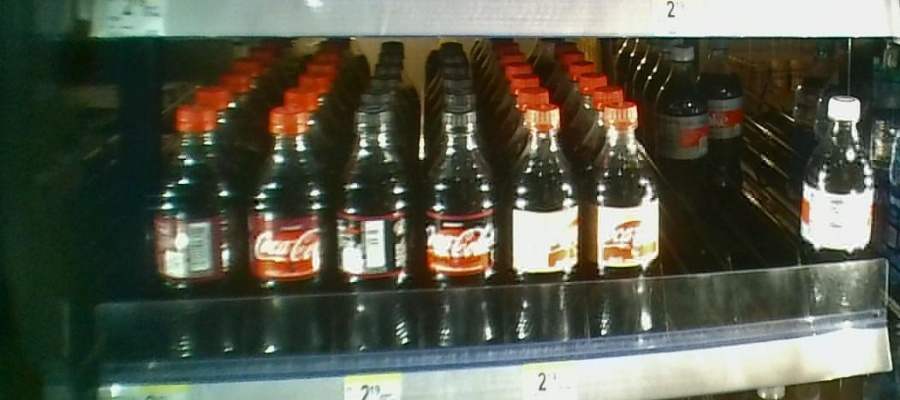bottle: (153, 99, 243, 361), (327, 101, 417, 358), (419, 106, 507, 357), (245, 96, 323, 362), (582, 94, 663, 346), (801, 80, 875, 325), (509, 97, 580, 349), (664, 46, 710, 226)
